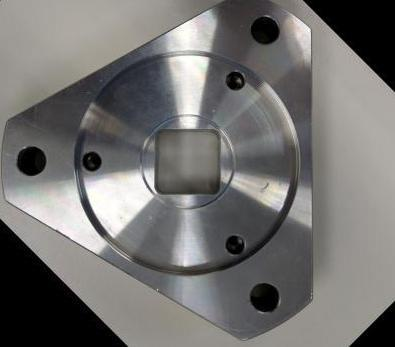hole: (239, 274, 289, 323), (7, 137, 54, 184), (241, 7, 287, 53), (218, 227, 254, 262), (218, 63, 251, 96), (75, 145, 107, 177)
